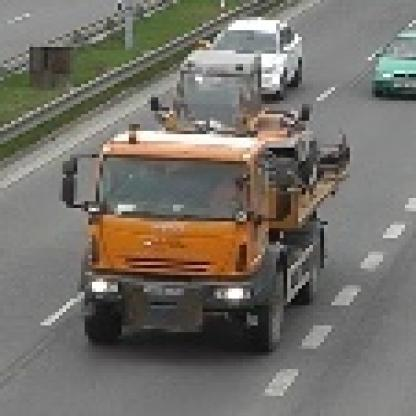truck: (56, 98, 347, 347)
